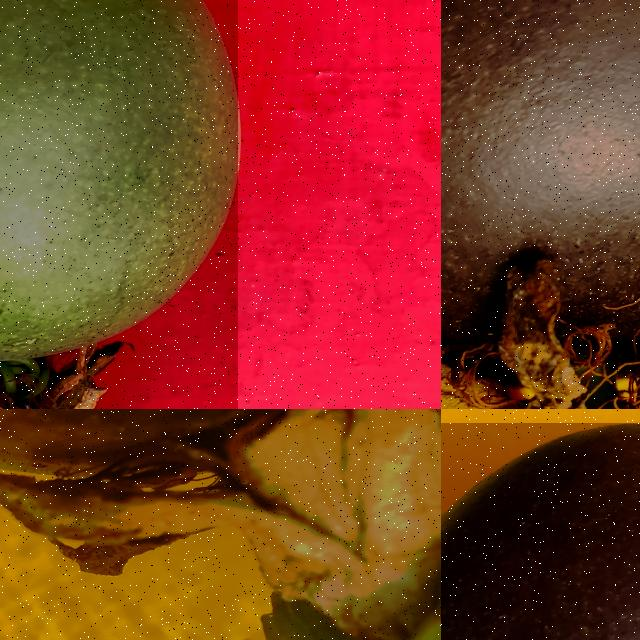Estado-5: (0, 409, 441, 640)
Estado-6: (441, 0, 640, 409), (441, 423, 640, 640)
